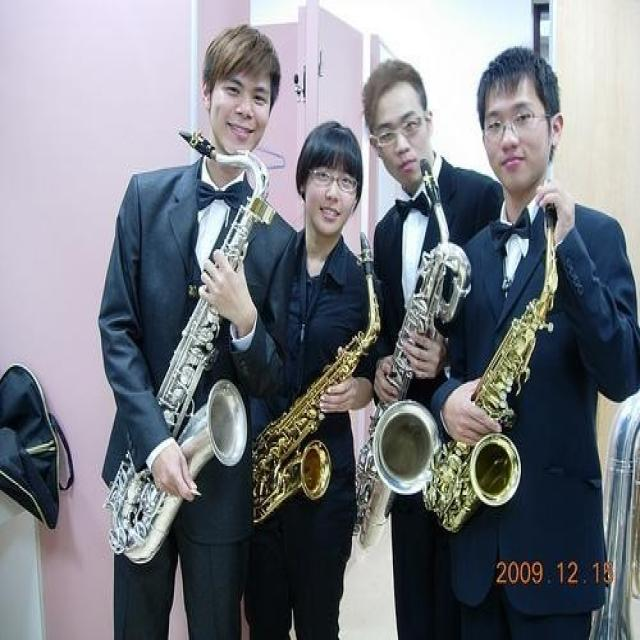saxophone: (101, 128, 276, 566), (419, 185, 563, 533), (248, 230, 382, 528)
